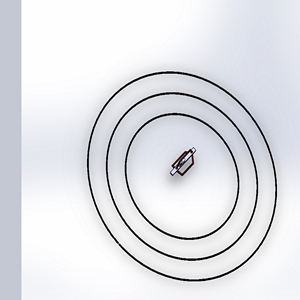circle: (78, 66, 280, 288)
submarine: (160, 141, 205, 189)
